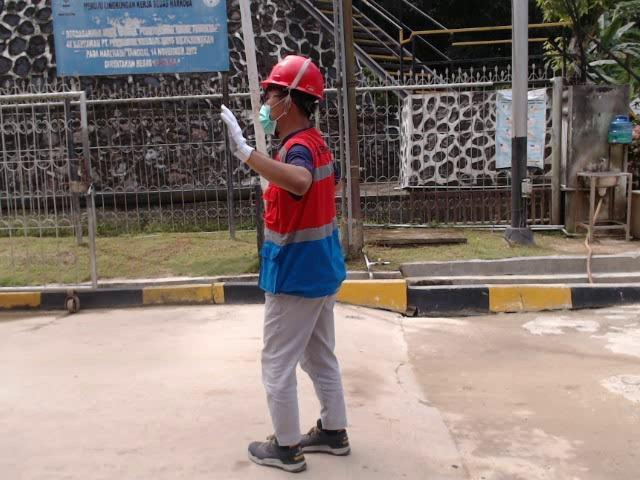helmet: (257, 52, 327, 99)
